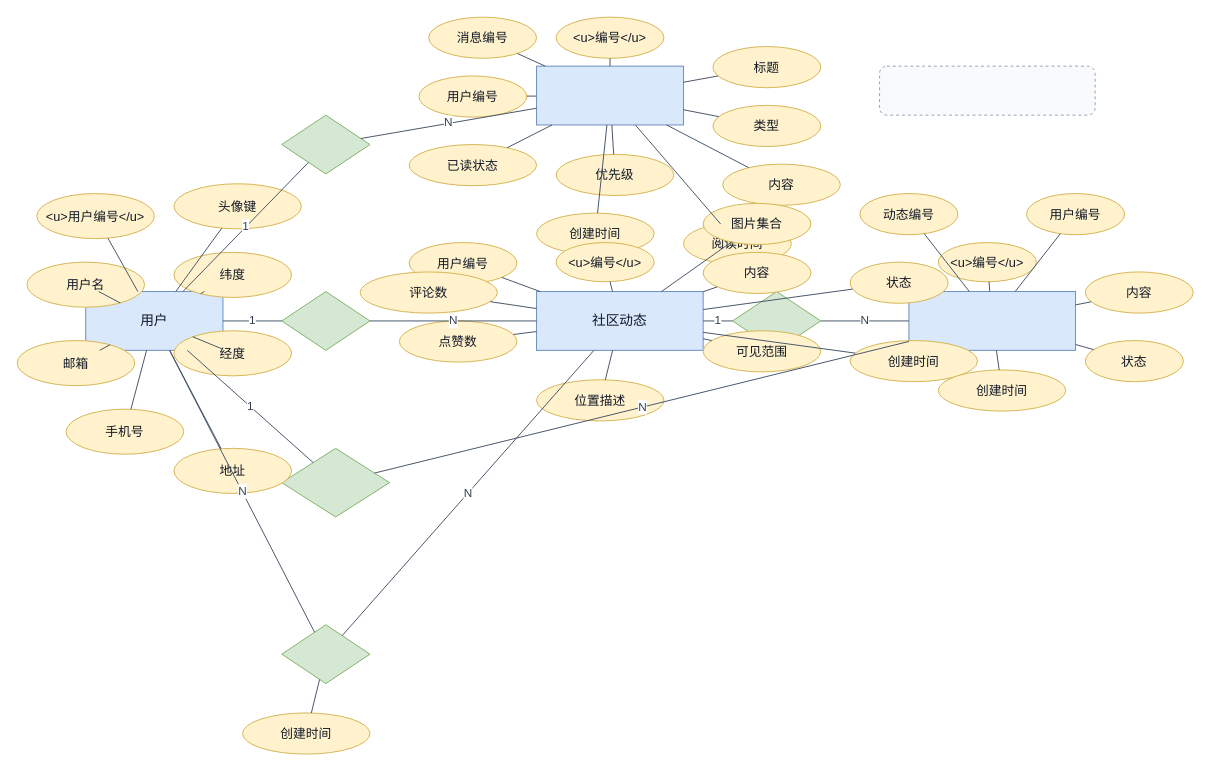
The diagram is 1210 pixels wide and 771 high, and some of its shapes have lost their labels. The shapes that lost their labels are listed below. From the top down, each one's centre as x and y in pixels, then its label:
At point (610, 95): "通知".
At point (987, 90): "商品相关实体按要求暂不纳入本组 ER 图。".
At point (325, 144): "接收".
At point (325, 320): "发布".
At point (776, 320): "属于".
At point (992, 320): "动态评论".
At point (335, 482): "发表评论".
At point (325, 654): "点赞".
